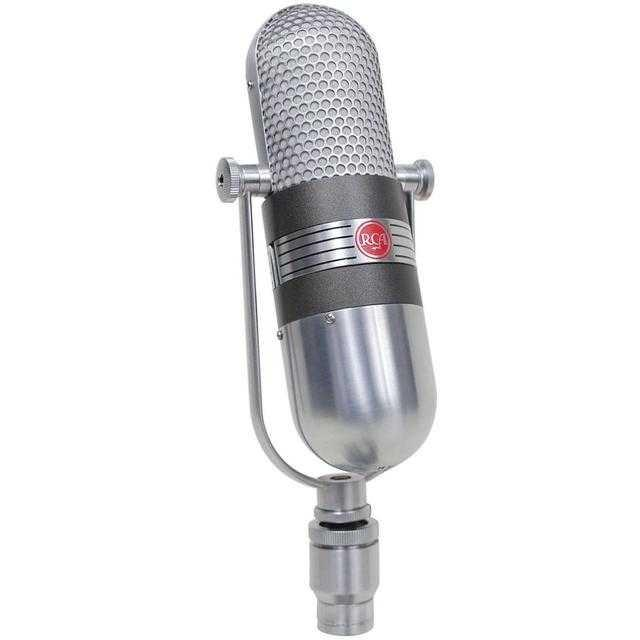microphone: (193, 0, 447, 618)
